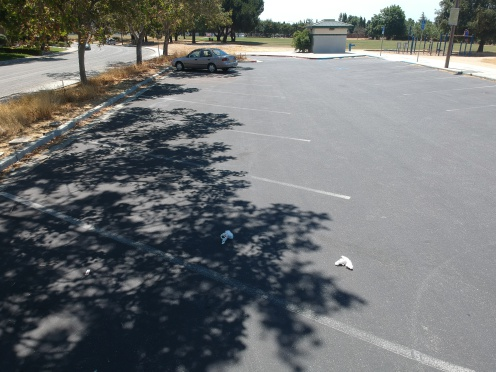plastic bag: (215, 229, 238, 249)
